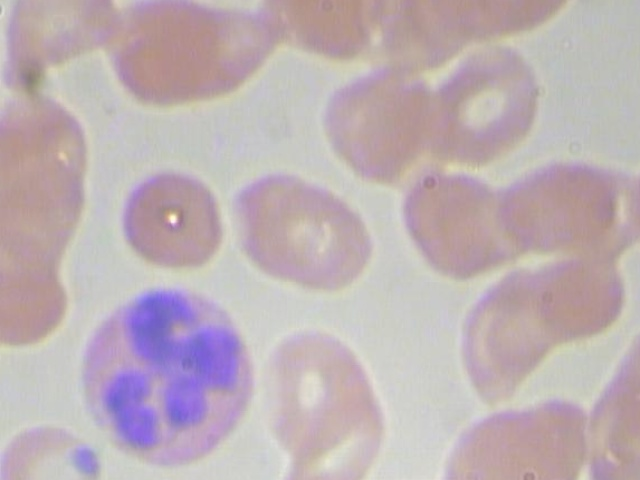RBC: (420, 41, 549, 171), (257, 315, 370, 461), (316, 57, 424, 184), (492, 156, 622, 261), (102, 0, 224, 108), (265, 177, 374, 296), (222, 164, 331, 281), (118, 168, 228, 273), (478, 394, 596, 480), (521, 249, 625, 341), (0, 415, 104, 480)
WBC: (81, 275, 257, 472)
